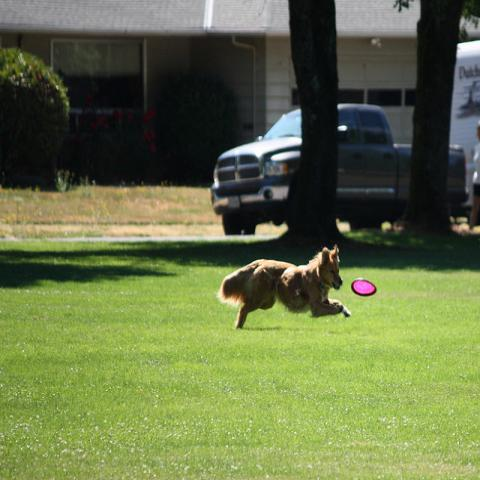truck: (210, 103, 472, 235)
